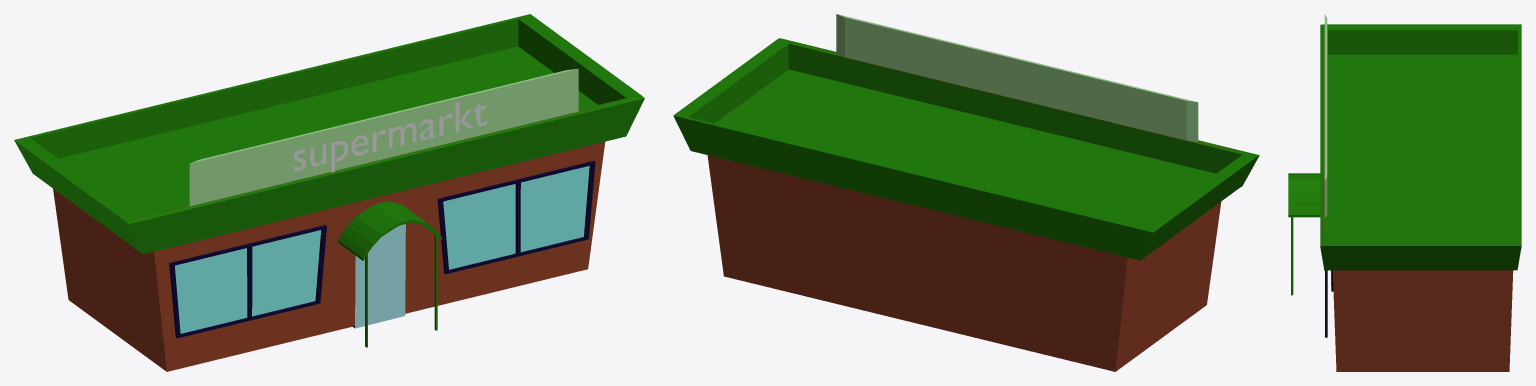
Rendered from supermarkt4.fbx.
3 renders of one model, left to right at view 1: azimuth 30°, elevation 25°; view 2: azimuth 150°, elevation 25°; view 3: azimuth 270°, elevation 25°, orthographic. The views are drawn at different scales.
Parts seen in each view (by area): view 1: Cube, Plane, Plane.001, Plane.005, Plane.002, Text; view 2: Cube; view 3: Cube, Plane.002, Plane.004, Plane.001.
Part boxes in pixels (left/top/right/bottom): Cube: left=14, top=14, right=644, bottom=371; Plane: left=169, top=225, right=326, bottom=338; Plane.001: left=437, top=161, right=595, bottom=273; Plane.005: left=352, top=224, right=405, bottom=328; Plane.002: left=338, top=201, right=442, bottom=260; Text: left=293, top=101, right=486, bottom=172; Cube: left=673, top=14, right=1259, bottom=371; Cube: left=1320, top=14, right=1521, bottom=371; Plane.002: left=1288, top=173, right=1320, bottom=217; Plane.004: left=1291, top=217, right=1293, bottom=295; Plane.001: left=1325, top=270, right=1327, bottom=337.
Bounding box in the file's own units: 972 × 377 × 433.
